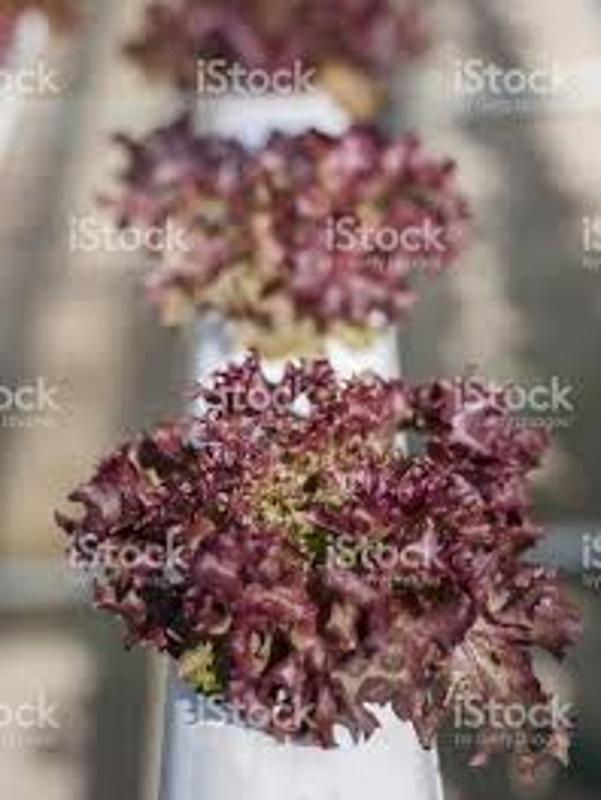red lettuce: (57, 360, 579, 764), (98, 116, 480, 342)
